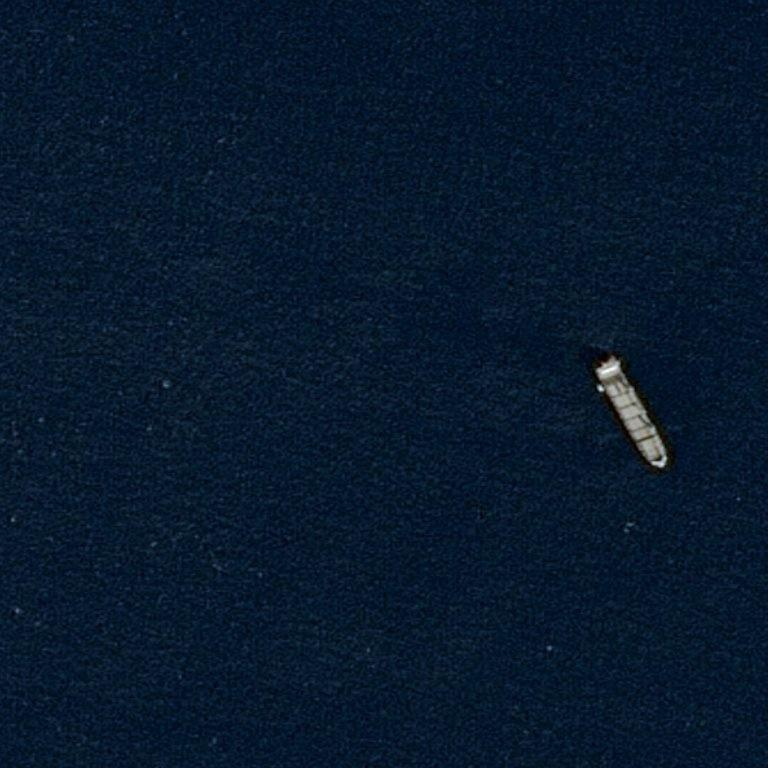ship: (628, 393, 632, 433), (596, 366, 601, 373), (660, 463, 665, 468), (616, 359, 620, 365)
